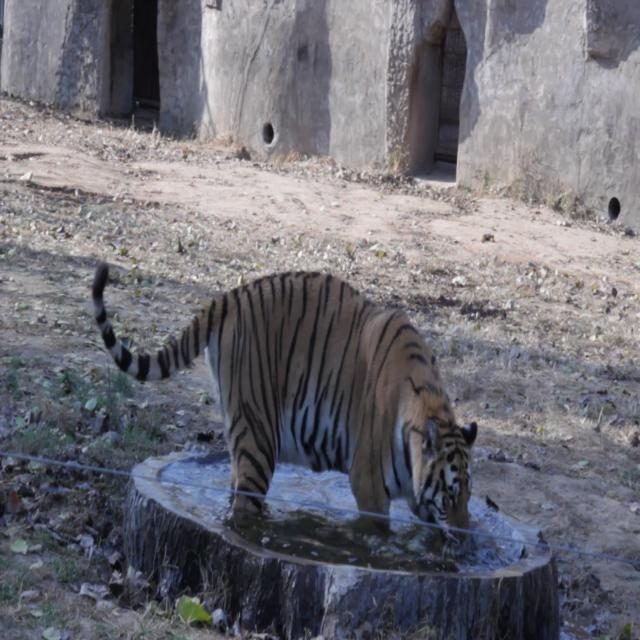Tiger: (85, 238, 484, 554)
